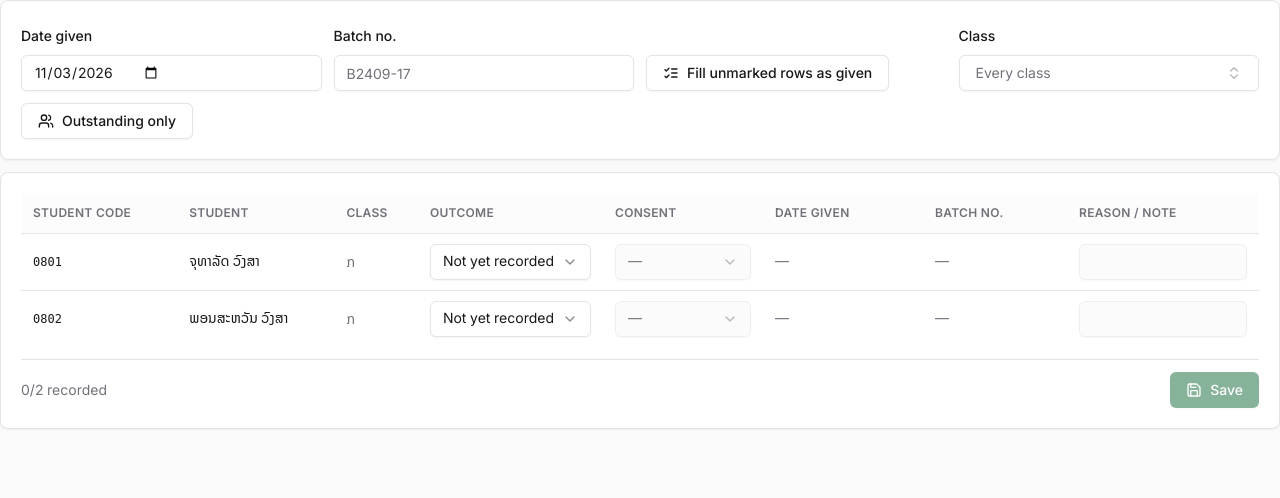
Scenario: DoseSheet › fills only the unmarked rows, leaving a refusal alone
Expected: the text "ຈຸທາລັດ ວົງສາ" is shown, [189, 249, 260, 272]
Click the dropdown labelled "Not yet recorded" in the row of "0801": coordinates (510, 262) [430, 244, 591, 280]
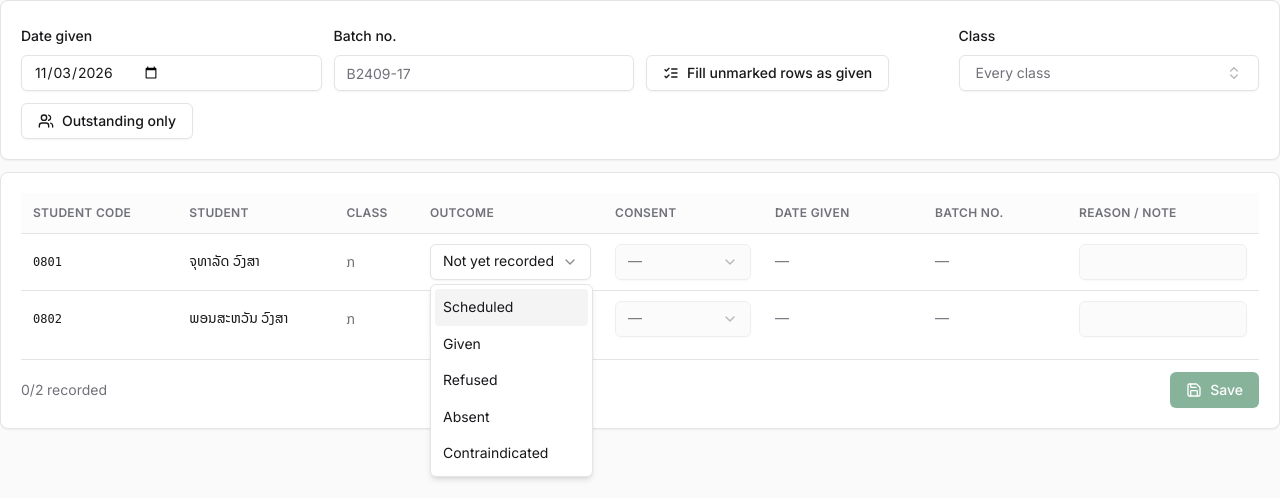
Click the option "Refused": coordinates (470, 380) [443, 368, 498, 391]
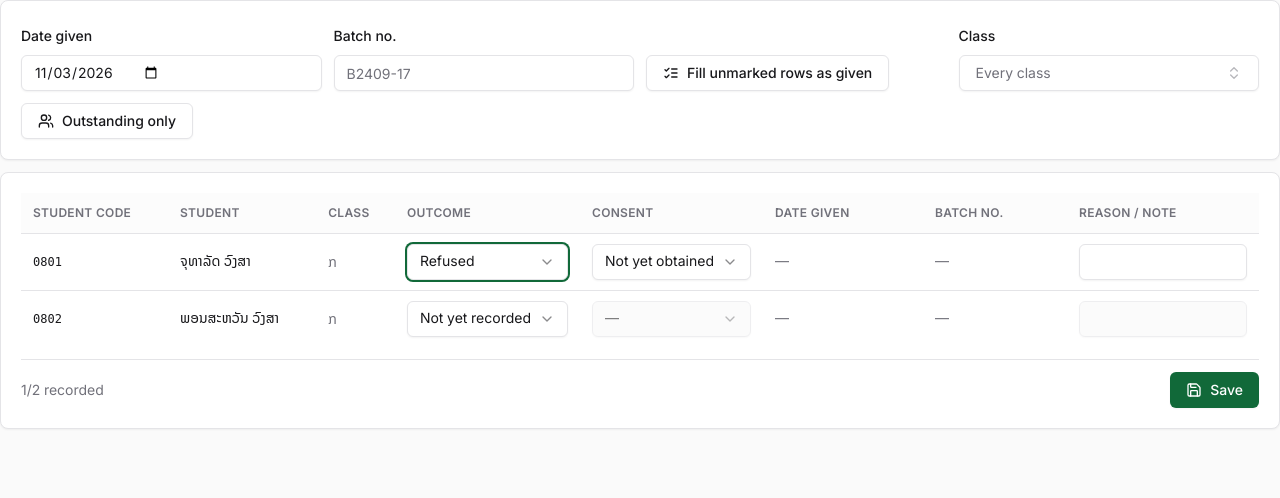
Click the button "Fill unmarked rows as given": coordinates (768, 73) [646, 55, 889, 91]
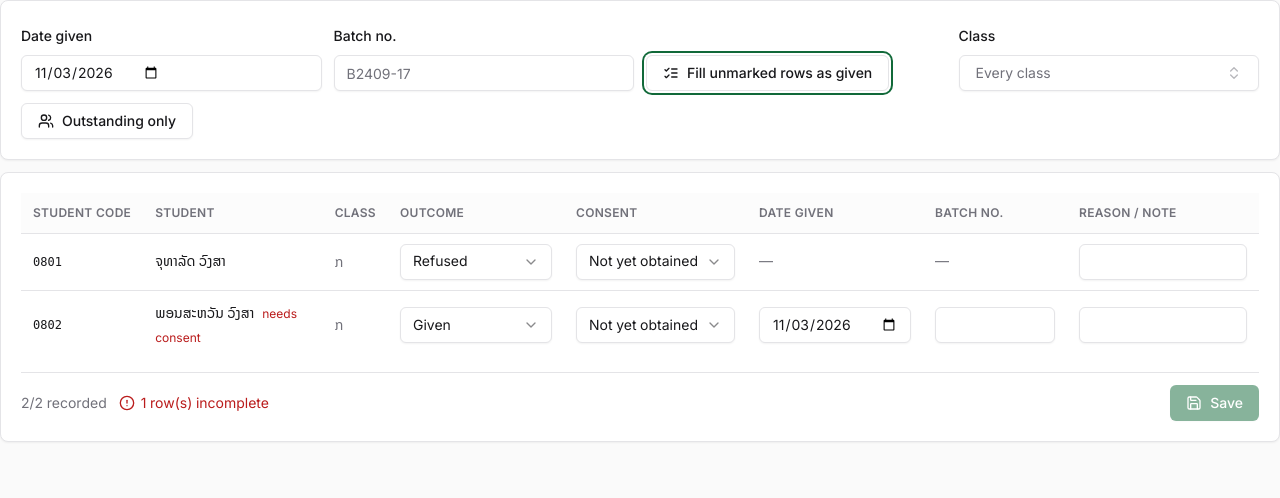
Expected: the text "2/2 recorded" is shown, [21, 392, 107, 412]
Expected: the text "needs consent" is shown, [155, 304, 297, 348]
Expected: the button "Save" is disabled, [1170, 384, 1259, 420]
